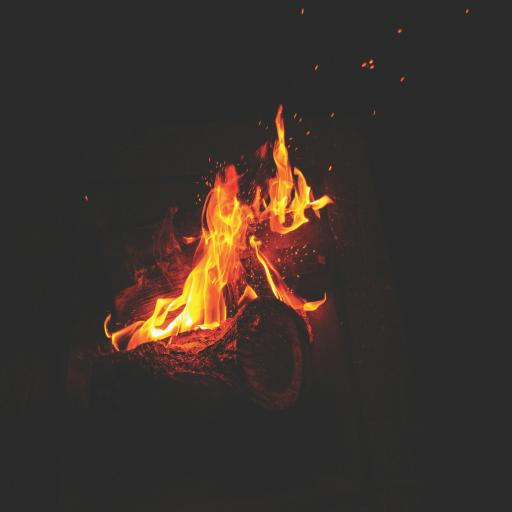campfire: (76, 74, 423, 400)
